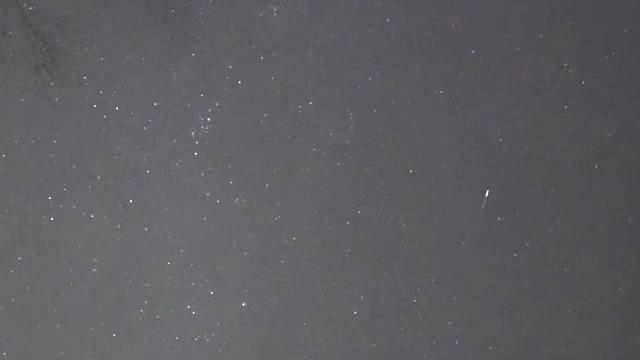meteorite: (472, 184, 500, 215)
